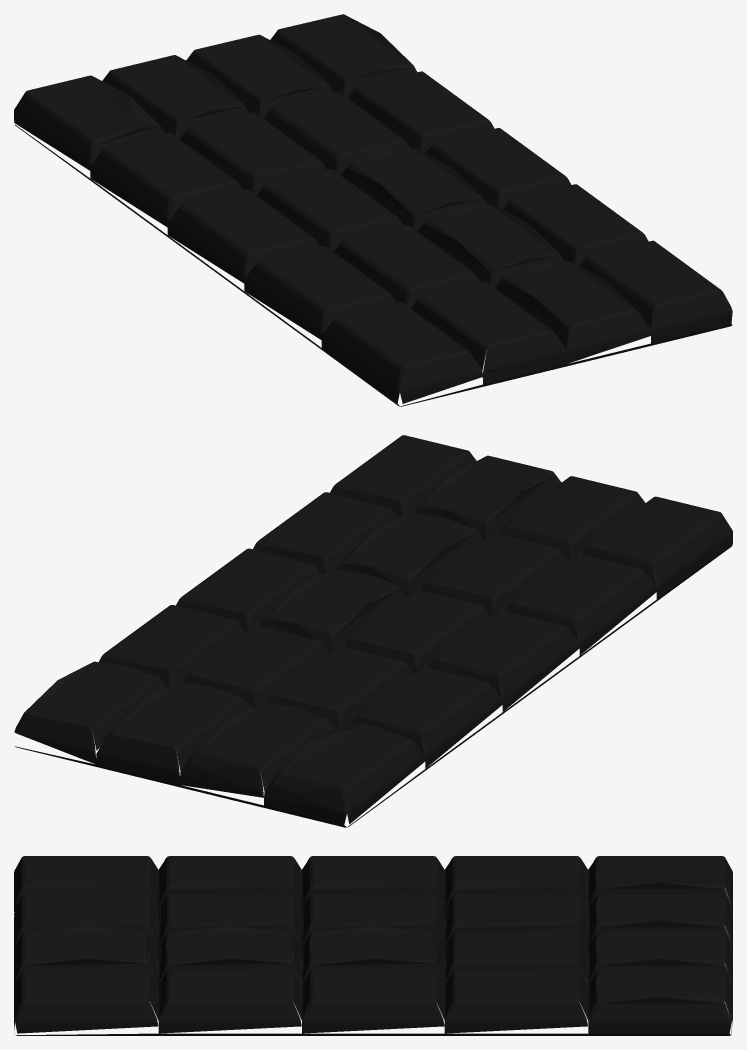
File: food_processed_chocolate_l01.glb
3 views of the same model, one above another, from view 1: azimuth 30°, elevation 25°; view 2: azimuth 150°, elevation 25°; view 3: azimuth 270°, elevation 25° (orthographic). The views are drawn at different scales.
Visible parts, largest first — view 1: geometry_0; view 2: geometry_0; view 3: geometry_0.
Part boxes in pixels (x1,y1,x2,y2): geometry_0: [14, 14, 732, 406]; geometry_0: [14, 435, 732, 827]; geometry_0: [14, 856, 732, 1035].
Size of the model in its own units: 0.2101 by 0.0244 by 0.42.
1 material, 1 textured.
